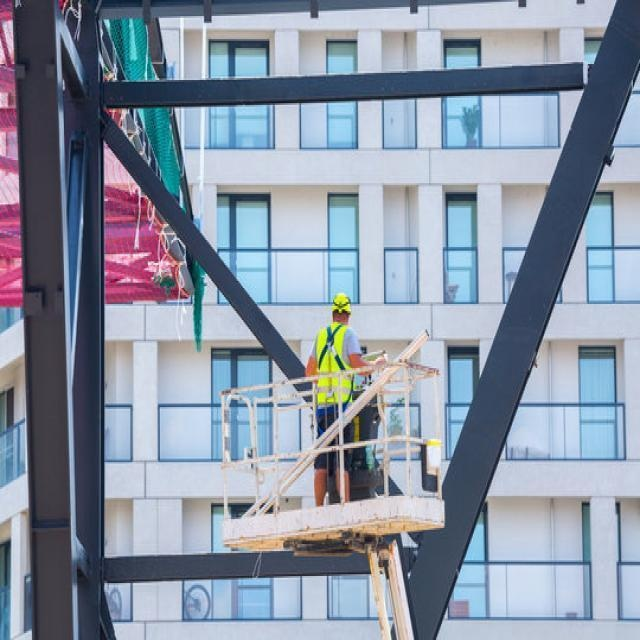Arnes_seguridad: (312, 322, 355, 404)
